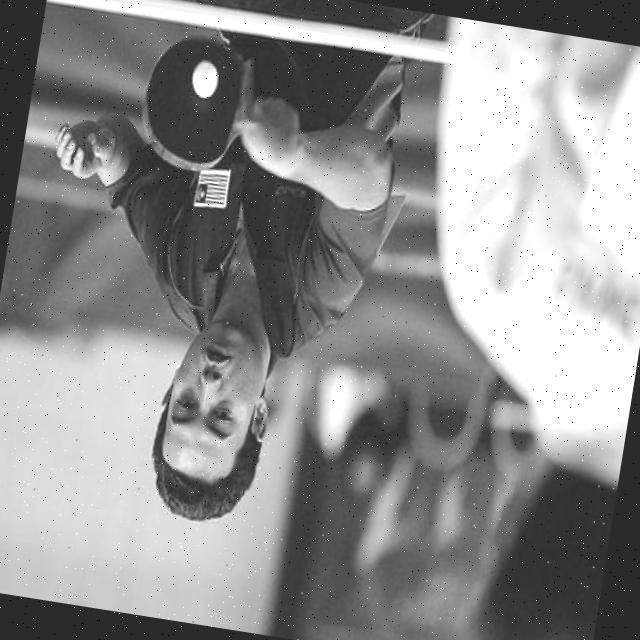ping-pong-ball: (190, 58, 222, 102)
